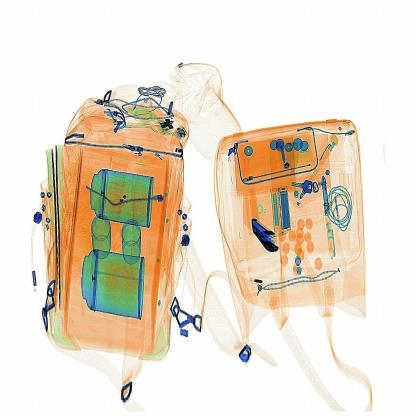pliers: (249, 218, 279, 263)
